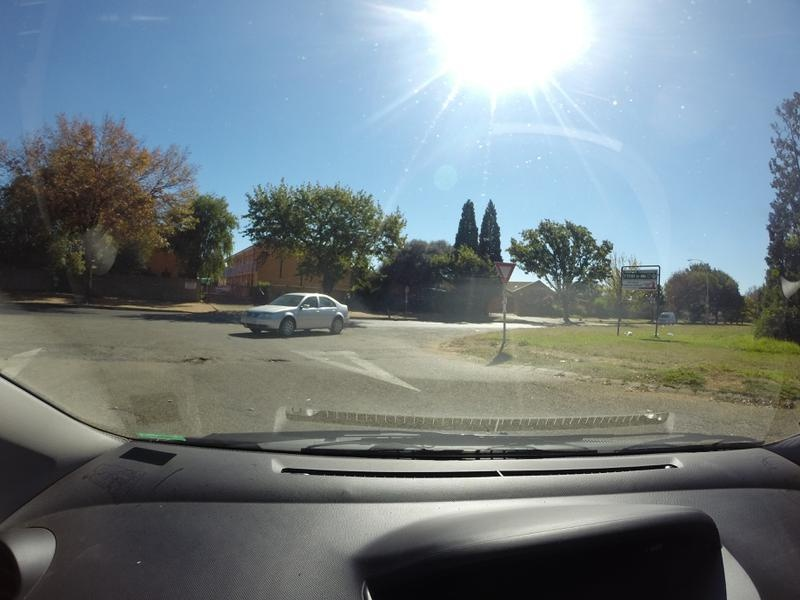pothole: (255, 355, 295, 365), (173, 355, 211, 365)
